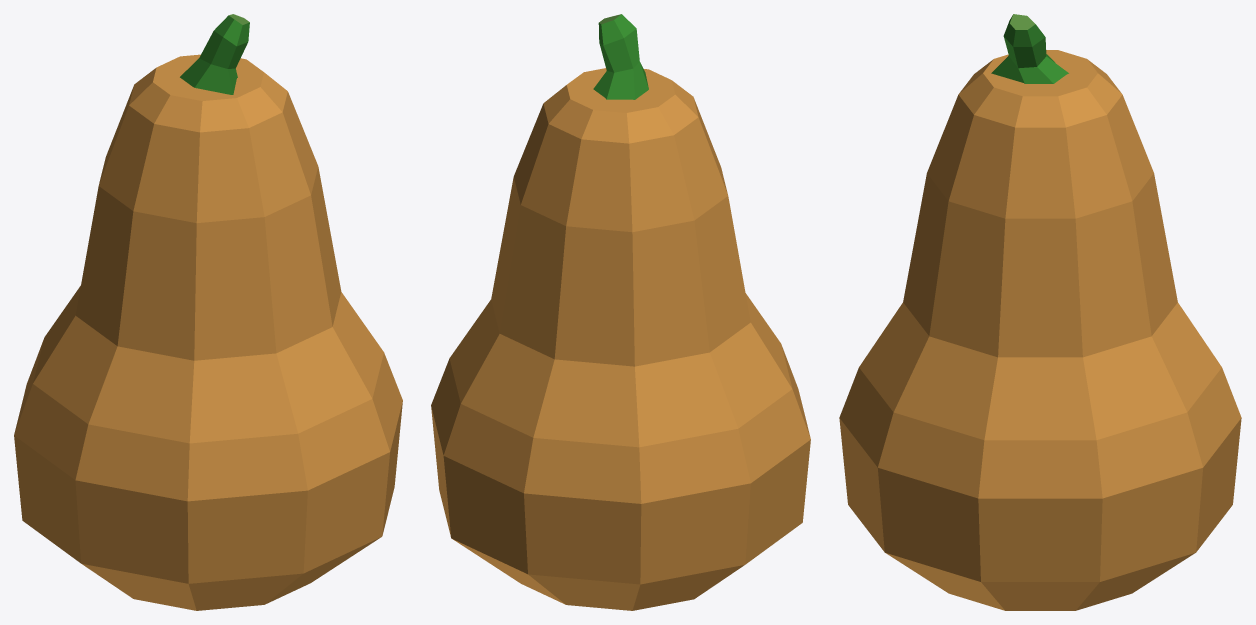
Rendered from pumpkin_2_simple_mat.fbx.
3 views of the same model, side by side, from view 1: azimuth 30°, elevation 25°; view 2: azimuth 150°, elevation 25°; view 3: azimuth 270°, elevation 25° (orthographic). The views are drawn at different scales.
Parts seen in each view (by area): view 1: pumpkin_2_simple_mat; view 2: pumpkin_2_simple_mat; view 3: pumpkin_2_simple_mat.
Part boxes in pixels (x1,y1,x2,y2): pumpkin_2_simple_mat: [14, 14, 402, 610]; pumpkin_2_simple_mat: [431, 14, 810, 610]; pumpkin_2_simple_mat: [839, 14, 1241, 610].
Size of the model in its own units: 171 by 280 by 180.
